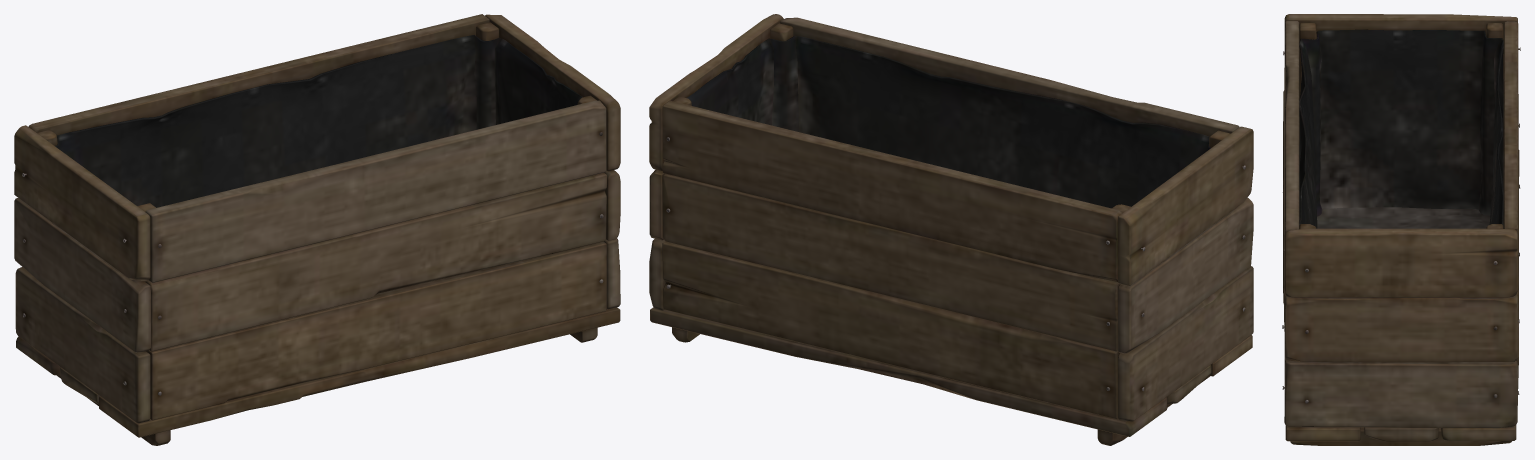
Rendered from planter_box_01.glb.
3 views of the same model, side by side, from view 1: azimuth 30°, elevation 25°; view 2: azimuth 150°, elevation 25°; view 3: azimuth 270°, elevation 25° (orthographic). The views are drawn at different scales.
Visible parts, largest first — view 1: planter_box_01; view 2: planter_box_01; view 3: planter_box_01.
Boxes of the visible parts, box(x1,y1,x2,y2) form: planter_box_01: box(14, 14, 620, 445); planter_box_01: box(649, 14, 1253, 445); planter_box_01: box(1282, 14, 1520, 445).
Size of the model in its own units: 0.9126 by 0.425 by 0.4137.
1 material, 1 textured.
